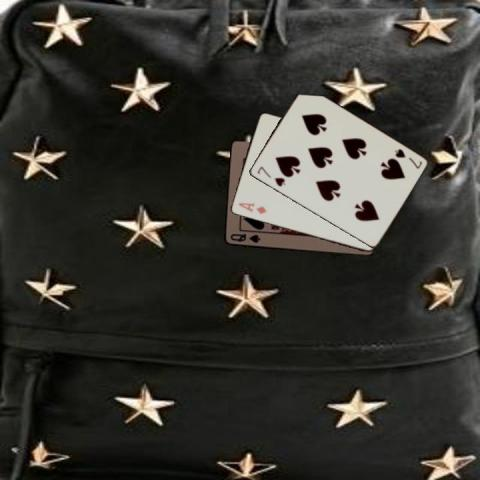7s: (254, 163, 287, 188), (392, 146, 424, 170)
Ad: (235, 200, 268, 215)
Qs: (228, 230, 262, 244)
